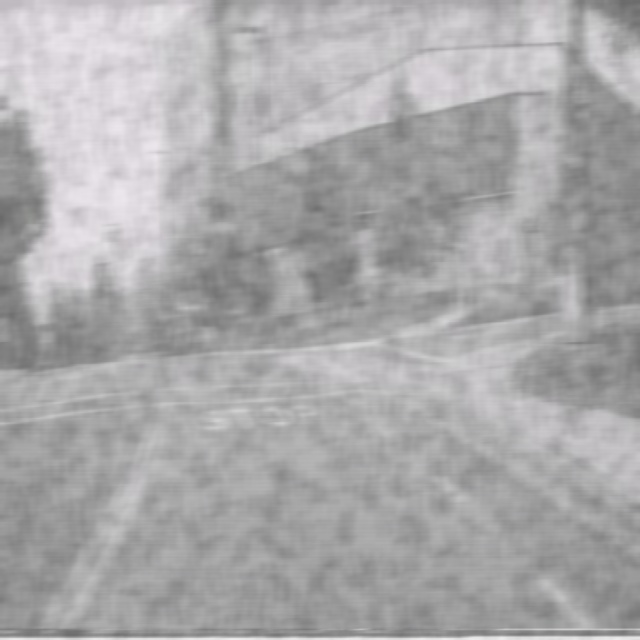stop: (510, 144, 548, 216)
